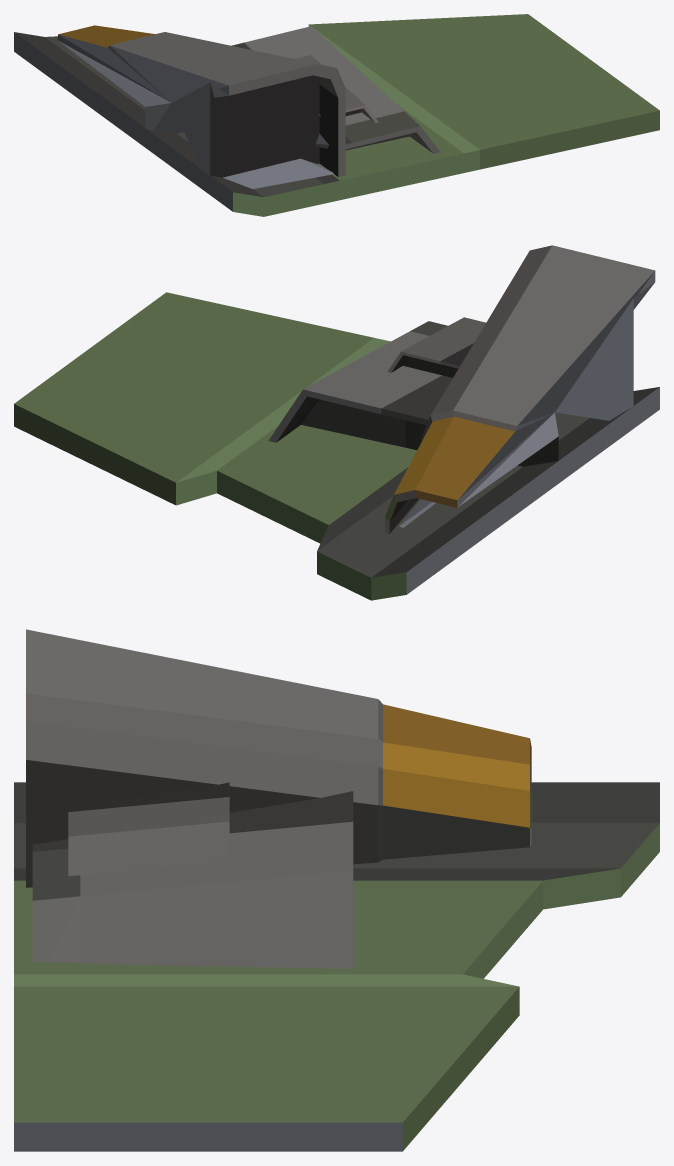
The model's file is wing_starboard.glb.
3 renders of one model, top to bottom at view 1: azimuth 30°, elevation 25°; view 2: azimuth 150°, elevation 25°; view 3: azimuth 270°, elevation 25°, orthographic. The views are drawn at different scales.
Size of the model in its own units: 1.33 by 0.4338 by 1.18.
